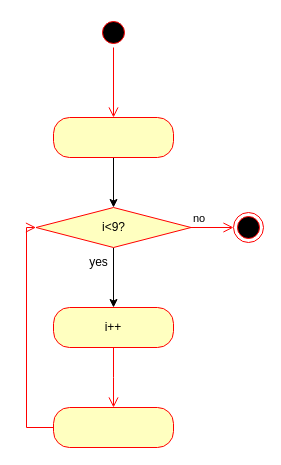
The diagram is 281 pixels wide and 465 high, and some of its shapes have lost their labels. The box of each missing label's shape, as (x1, y1, x2, y2) in pixels:
i = 0: (52, 116, 174, 158)
Incorement: (52, 406, 174, 448)
